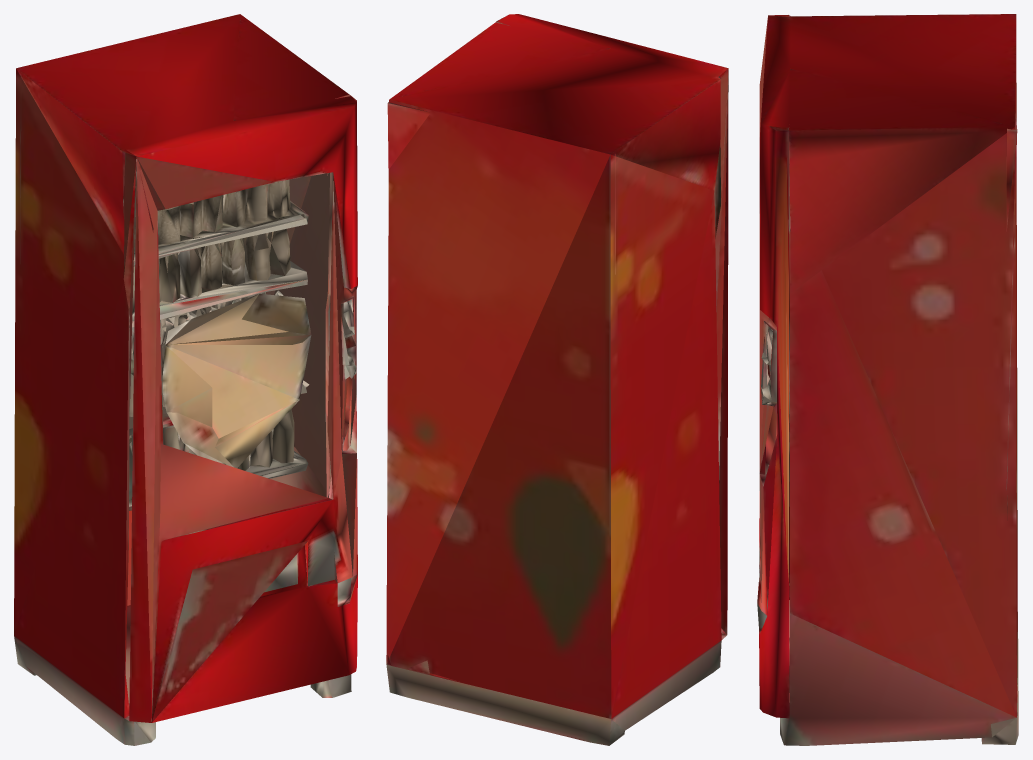
File: perk_fv_bulwark.glb
3 renders of one model, left to right at view 1: azimuth 30°, elevation 25°; view 2: azimuth 150°, elevation 25°; view 3: azimuth 270°, elevation 25°, orthographic. The views are drawn at different scales.
Visible parts, largest first — view 1: perk_fv_bulwark; view 2: perk_fv_bulwark; view 3: perk_fv_bulwark.
Boxes of the visible parts, <box> form: perk_fv_bulwark: <box>14,14,357,745</box>; perk_fv_bulwark: <box>386,14,728,745</box>; perk_fv_bulwark: <box>757,14,1018,745</box>.
Size of the model in its own units: 0.8432 by 2.1 by 0.8042.
Materials: 1 (1 with a texture image).
